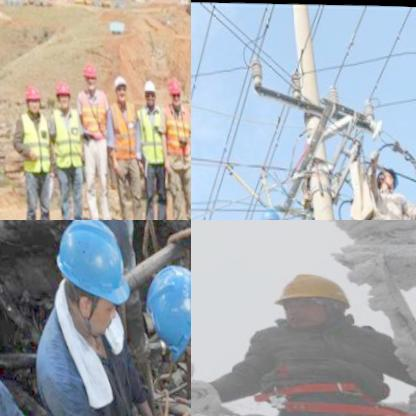helmet: (45, 220, 132, 340), (264, 255, 358, 335), (138, 256, 191, 363), (373, 160, 399, 194), (108, 69, 129, 107), (160, 72, 181, 110), (19, 82, 41, 118), (48, 77, 68, 113), (78, 59, 98, 93), (139, 76, 155, 108), (254, 207, 283, 220), (186, 75, 191, 111)
